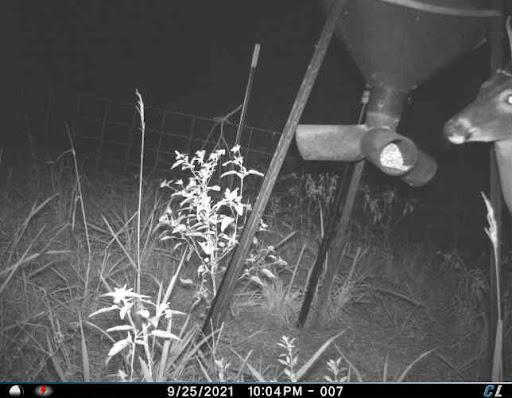Deer: (435, 13, 512, 227)
